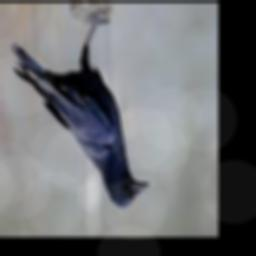Crow: (10, 6, 149, 208)
